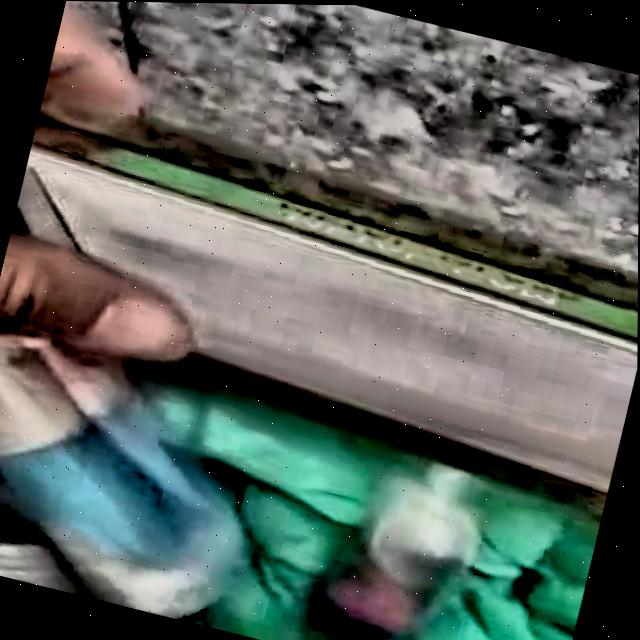glass: (335, 464, 477, 637)
metal: (0, 337, 236, 618)
